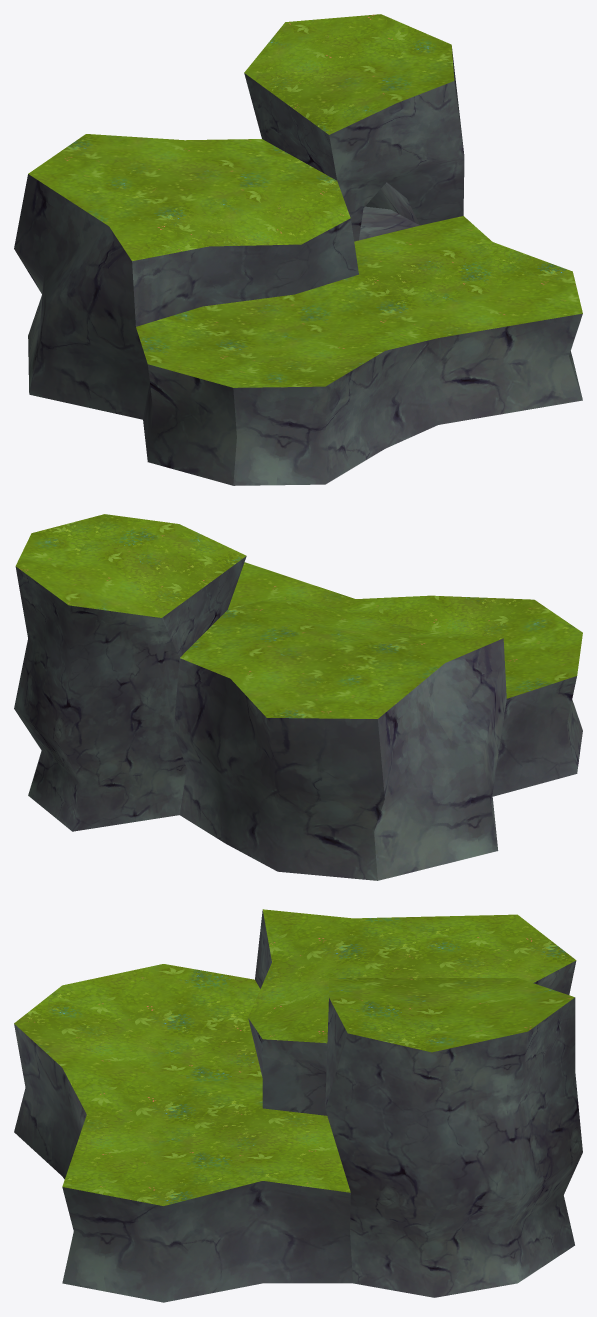
The model's file is terrainlevel1.fbx.
3 views of the same model, one above another, from view 1: azimuth 30°, elevation 25°; view 2: azimuth 150°, elevation 25°; view 3: azimuth 270°, elevation 25° (orthographic). The views are drawn at different scales.
Parts seen in each view (by area): view 1: polySurface7, polySurface4, polySurface8; view 2: polySurface7, polySurface4; view 3: polySurface7, polySurface4.
Boxes of the visible parts, x1=… form: polySurface7: x1=14, y1=49, x2=582, y2=485; polySurface4: x1=28, y1=14, x2=582, y2=387; polySurface8: x1=359, y1=182, x2=419, y2=240; polySurface7: x1=14, y1=556, x2=582, y2=880; polySurface4: x1=16, y1=514, x2=582, y2=718; polySurface7: x1=14, y1=910, x2=582, y2=1302; polySurface4: x1=14, y1=909, x2=576, y2=1205.
Size of the model in its own units: 31.74 by 15.68 by 31.57.
Materials: 2 (2 with a texture image).
